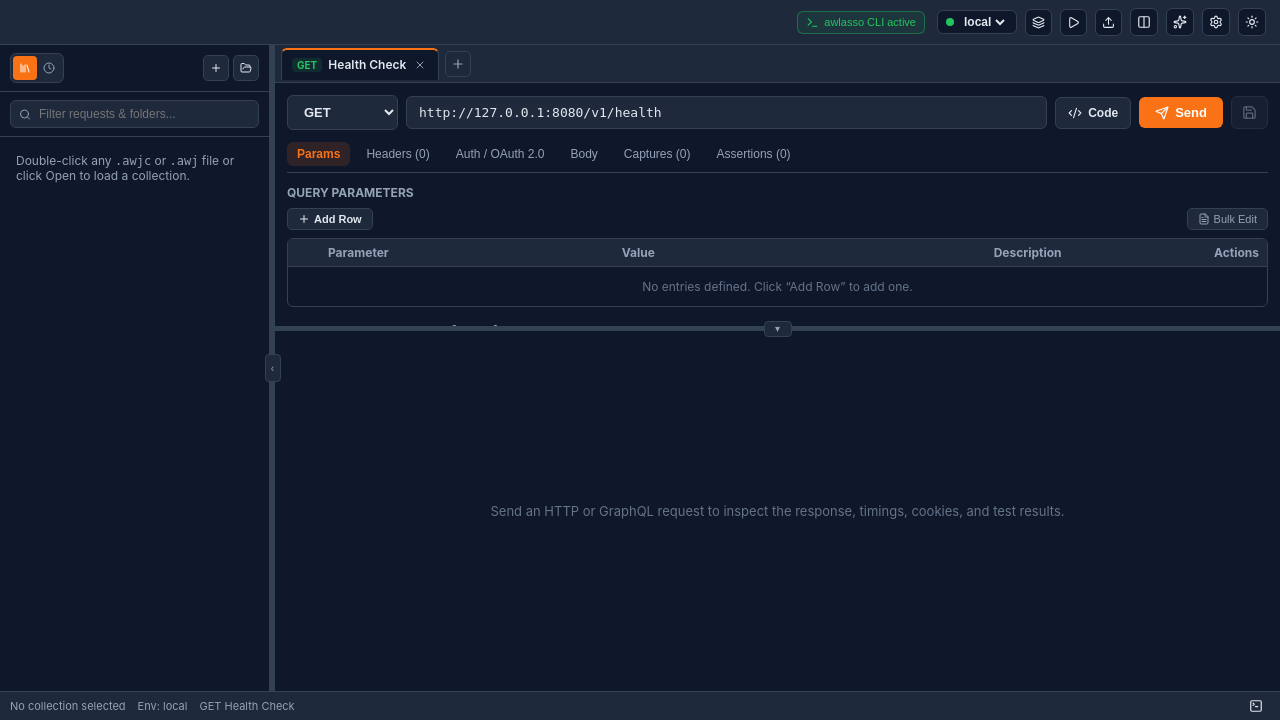
Test case: App shell › renders AwapiLasso header, request bar, and empty collections sidebar
Expected: the header with test id "top-toolbar" is shown, [0,0,1279,45]
Expected: the element with test id "empty-collections-msg" is shown, [8,145,261,191]
Click the button with test id "cli-status-badge" at (861, 22), box [797,10,925,34]
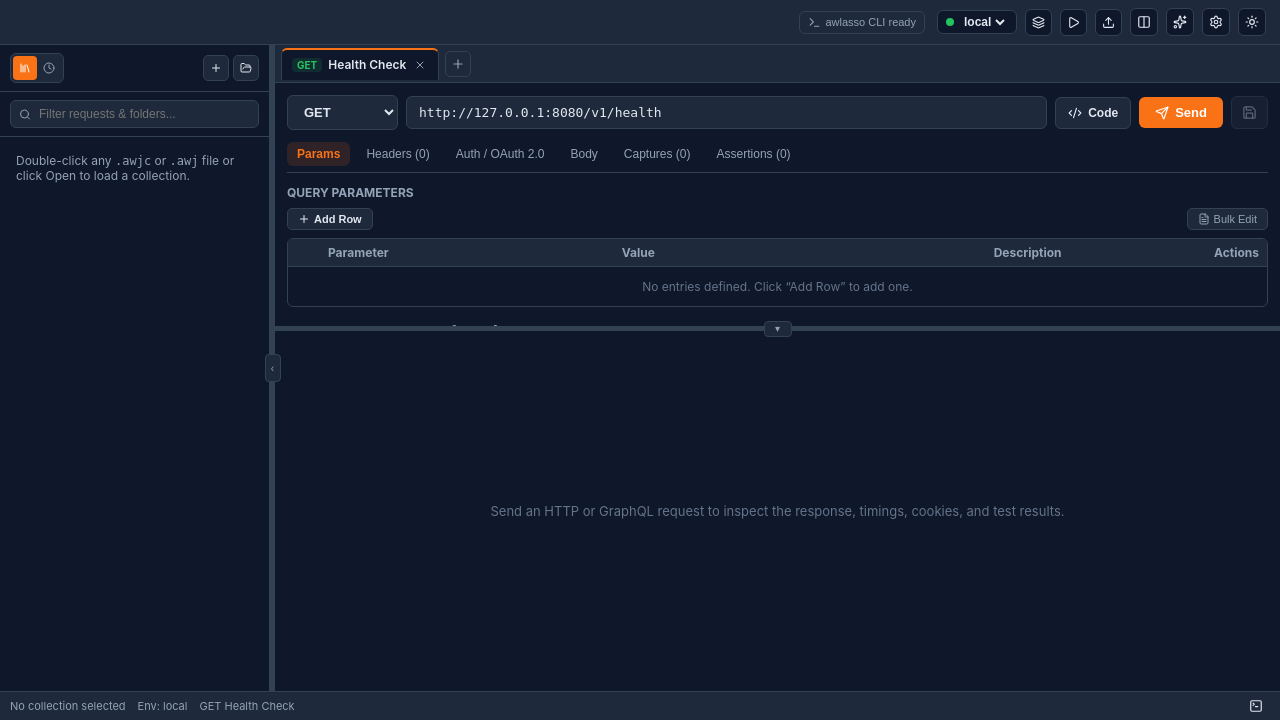
Result: the button with test id "cli-status-badge" reads "awlasso CLI ready" at [798,10,925,34]
